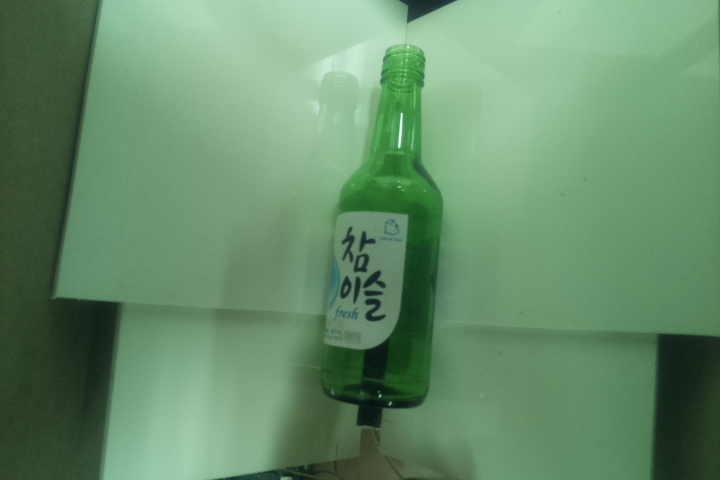soju: (317, 43, 444, 409)
